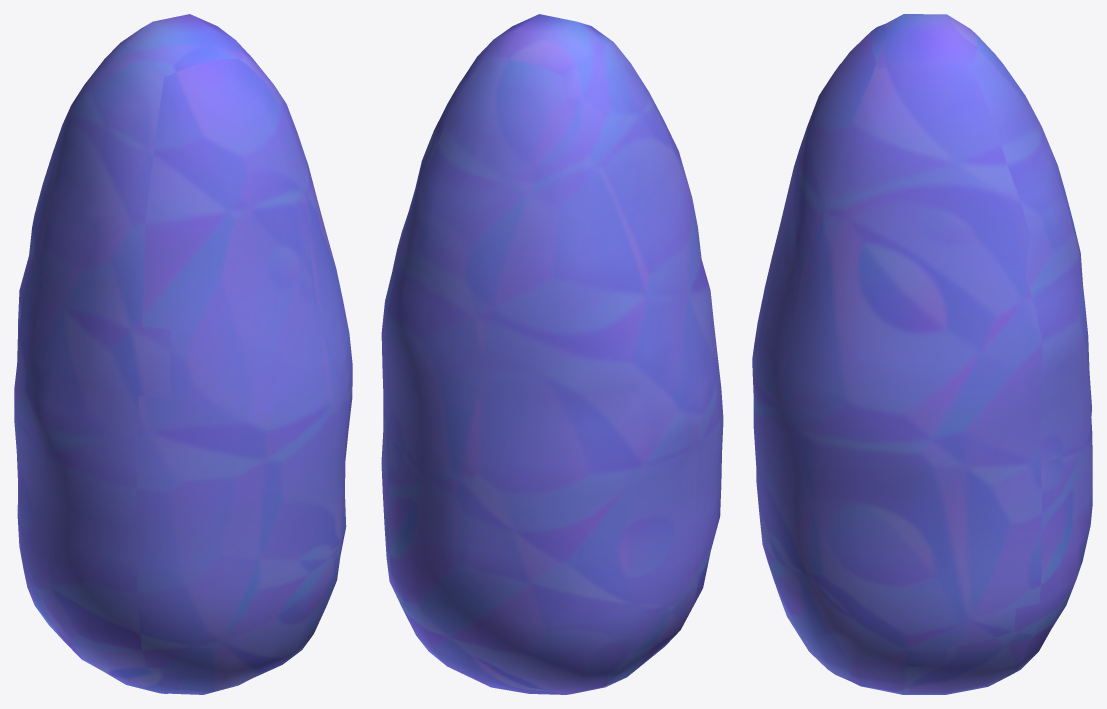
File: m_StoneBlueBig_LOD0.fbx
3 views of the same model, side by side, from view 1: azimuth 30°, elevation 25°; view 2: azimuth 150°, elevation 25°; view 3: azimuth 270°, elevation 25° (orthographic).
Parts seen in each view (by area): view 1: Stone1_Final; view 2: Stone1_Final; view 3: Stone1_Final.
Part boxes in pixels (bbox=[...]): Stone1_Final: bbox=[14, 14, 352, 694]; Stone1_Final: bbox=[381, 14, 723, 694]; Stone1_Final: bbox=[752, 14, 1092, 694].
Size of the model in its own units: 3749 by 7983 by 3775.
